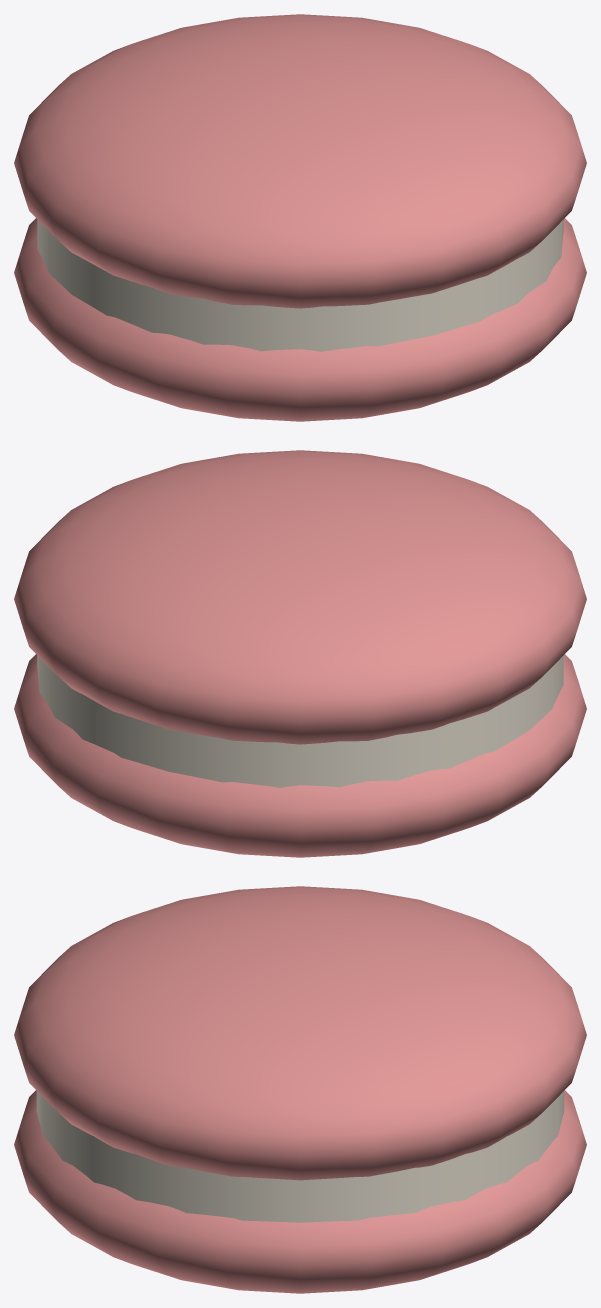
Rendered from wp-macaron.glb.
3 views of the same model, one above another, from view 1: azimuth 30°, elevation 25°; view 2: azimuth 150°, elevation 25°; view 3: azimuth 270°, elevation 25° (orthographic).
Visible parts, largest first — view 1: wp-macaron; view 2: wp-macaron; view 3: wp-macaron.
Boxes of the visible parts, x1,y1,x2,y2 form: wp-macaron: (14,14,586,421); wp-macaron: (14,450,586,857); wp-macaron: (14,886,586,1293).
Bounding box in the file's own units: 0.055 × 0.03 × 0.055.
